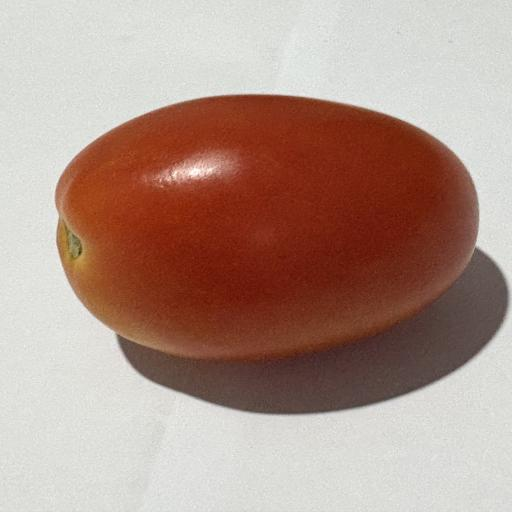ripe: (56, 95, 478, 359)
